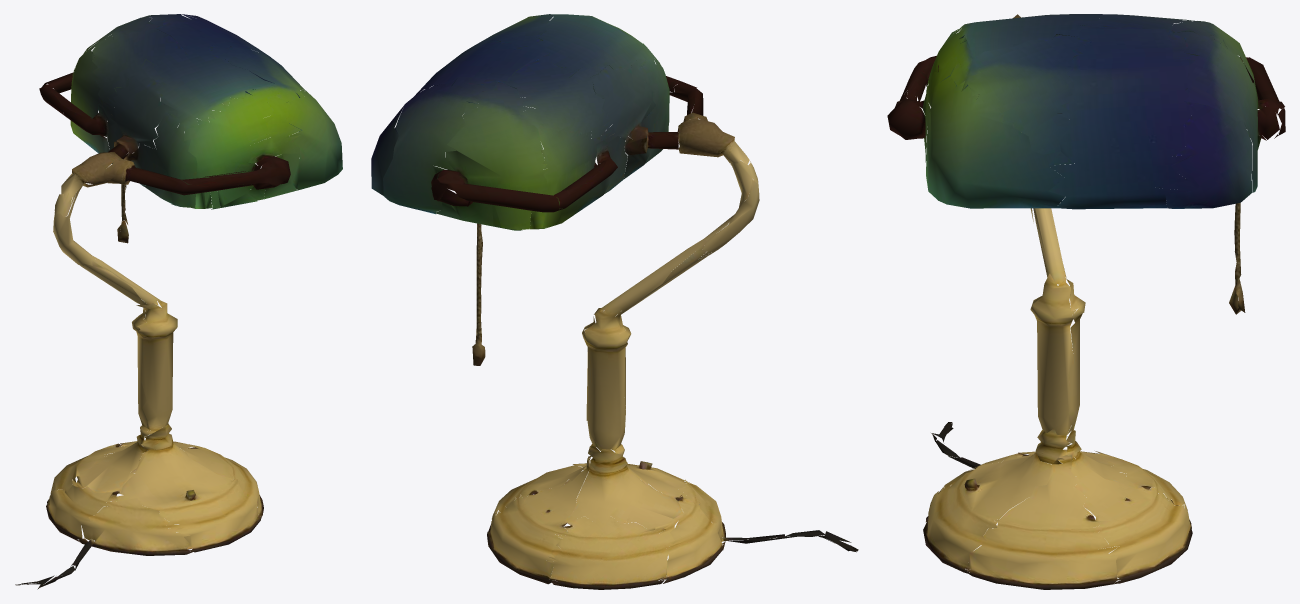
Rendered from banker_lamp.glb.
The picture shows the model from 3 angles, left to right: view 1: azimuth 30°, elevation 25°; view 2: azimuth 150°, elevation 25°; view 3: azimuth 270°, elevation 25°; orthographic projection. The views are drawn at different scales.
Visible parts, largest first — view 1: tripo_node_9ce5832f-0c20-4d76-8398-f8f05d286527; view 2: tripo_node_9ce5832f-0c20-4d76-8398-f8f05d286527; view 3: tripo_node_9ce5832f-0c20-4d76-8398-f8f05d286527.
Boxes of the visible parts, x1,y1,x2,y2 form: tripo_node_9ce5832f-0c20-4d76-8398-f8f05d286527: (15,14,342,589); tripo_node_9ce5832f-0c20-4d76-8398-f8f05d286527: (371,14,858,589); tripo_node_9ce5832f-0c20-4d76-8398-f8f05d286527: (887,14,1285,589).
Size of the model in its own units: 0.8025 by 1 by 0.6748.
1 material, 1 textured.
